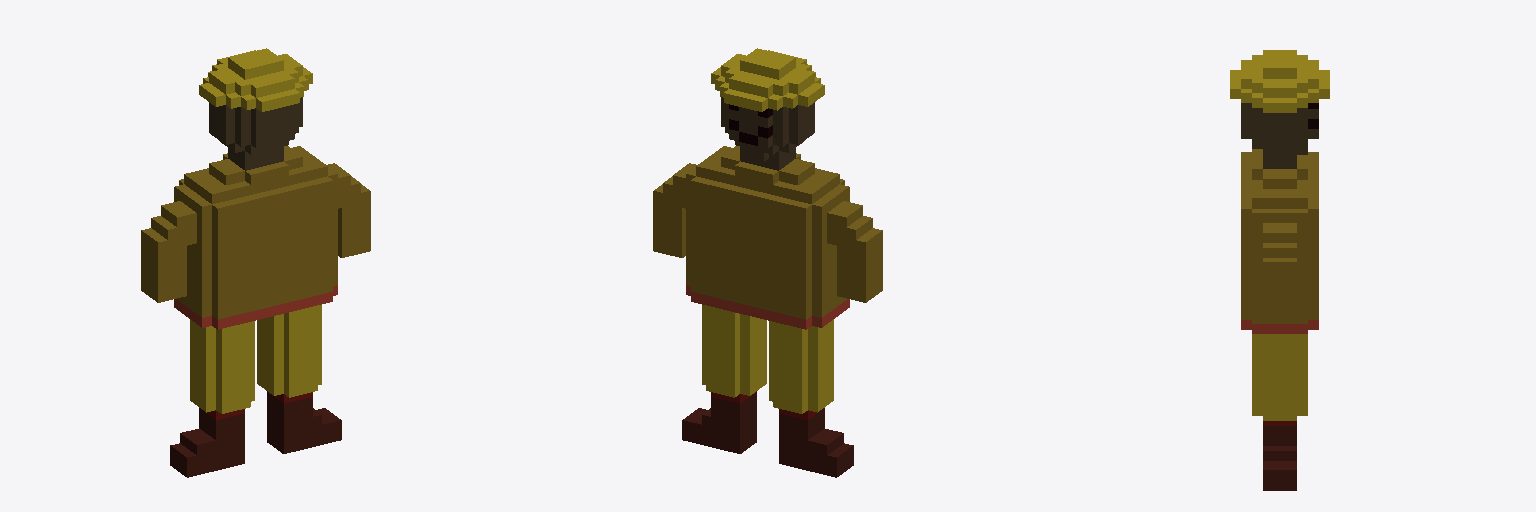
The picture shows the model from 3 angles: view 1: azimuth 30°, elevation 25°; view 2: azimuth 150°, elevation 25°; view 3: azimuth 270°, elevation 25°; orthographic projection.
Visible parts, largest first — view 1: object 1; view 2: object 1; view 3: object 1.
Part boxes in pixels (x1,y1,x2,y2): object 1: (141,48,370,477); object 1: (653,48,882,477); object 1: (1230,50,1329,490).
Bounding box in the file's own units: 2.2 × 3.9 × 0.9.
Materials: 1 (1 with a texture image).